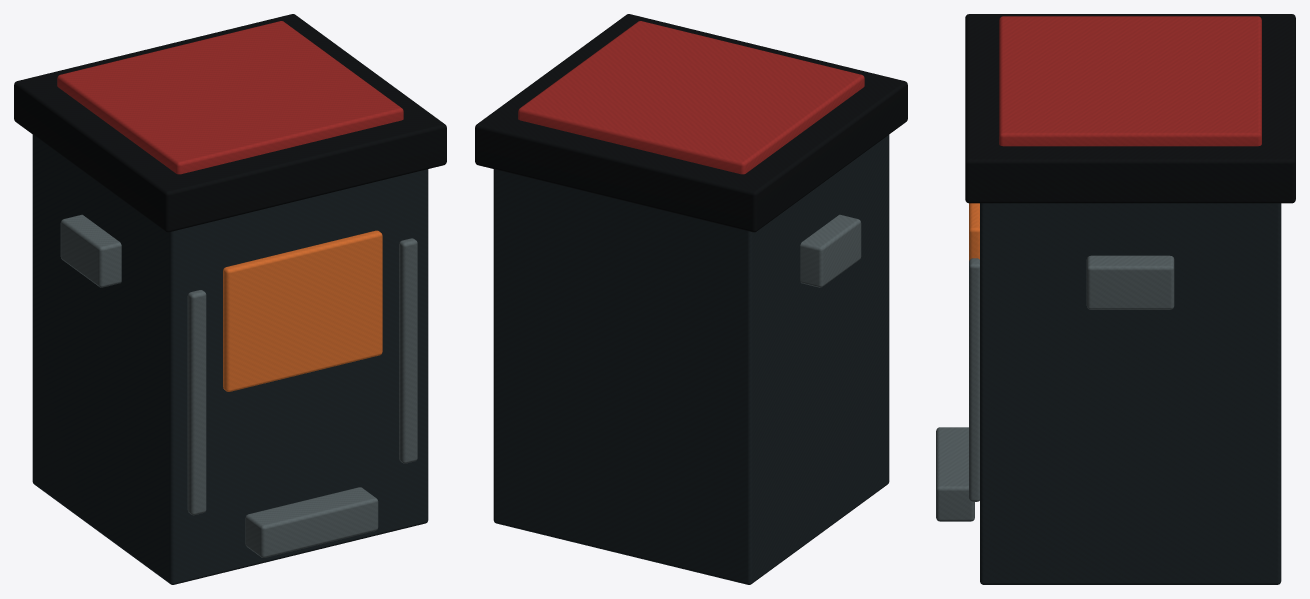
Rendered from BiohazardWasteBin.glb.
3 views of the same model, side by side, from view 1: azimuth 30°, elevation 25°; view 2: azimuth 150°, elevation 25°; view 3: azimuth 270°, elevation 25° (orthographic). The views are drawn at different scales.
Visible parts, largest first — view 1: BiohazardWasteBin_Mesh; view 2: BiohazardWasteBin_Mesh; view 3: BiohazardWasteBin_Mesh.
Boxes of the visible parts, left/top/right/bottom form: BiohazardWasteBin_Mesh: left=14, top=14, right=446, bottom=584; BiohazardWasteBin_Mesh: left=475, top=14, right=907, bottom=584; BiohazardWasteBin_Mesh: left=936, top=14, right=1295, bottom=584.
Bounding box in the file's own units: 0.77 × 1.01 × 0.74.
Materials: 5 (5 with a texture image).
